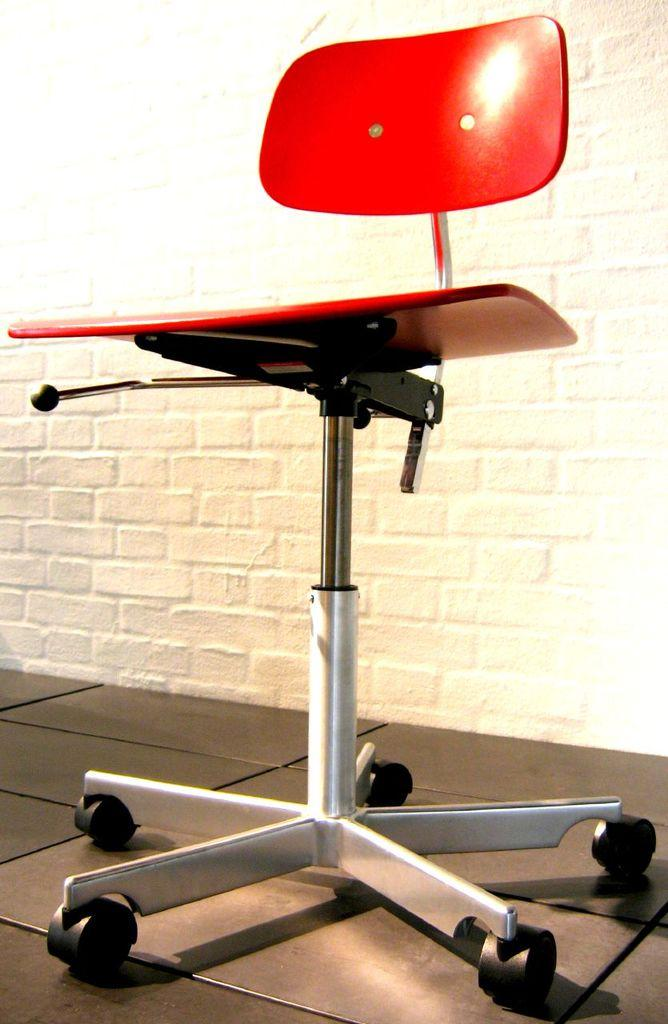Chair: (29, 0, 593, 1023)
